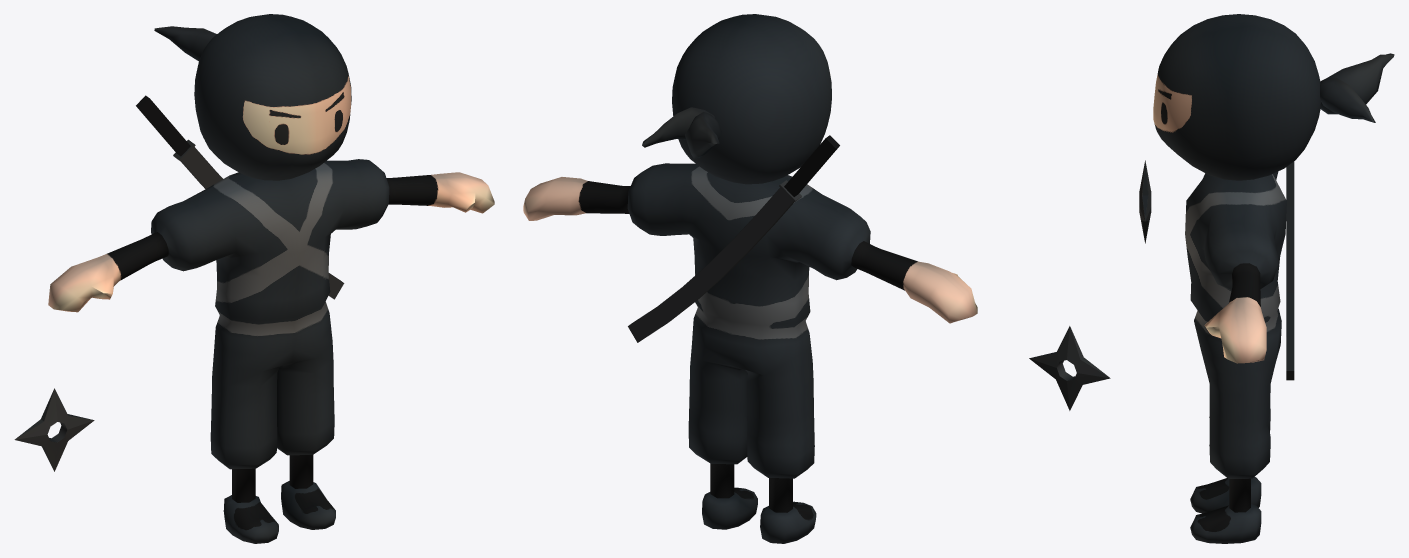
Rendered from Ninja.fbx.
3 views of the same model, side by side, from view 1: azimuth 30°, elevation 25°; view 2: azimuth 150°, elevation 25°; view 3: azimuth 270°, elevation 25° (orthographic).
Visible parts, largest first — view 1: 5, suriken; view 2: 5, suriken; view 3: 5, suriken.
Boxes of the visible parts, left/top/right/bottom form: 5: left=48, top=14, right=494, bottom=543; suriken: left=14, top=388, right=94, bottom=471; 5: left=523, top=14, right=977, bottom=543; suriken: left=1029, top=326, right=1110, bottom=410; 5: left=1153, top=14, right=1394, bottom=543; suriken: left=1139, top=160, right=1151, bottom=243.
Bounding box in the file's own units: 186 × 168 × 77.67.
